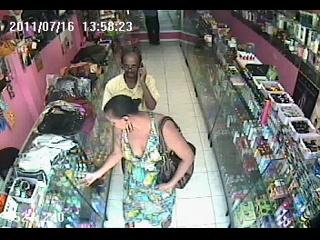Normal: (79, 94, 195, 226), (101, 51, 160, 111), (142, 10, 160, 46)
